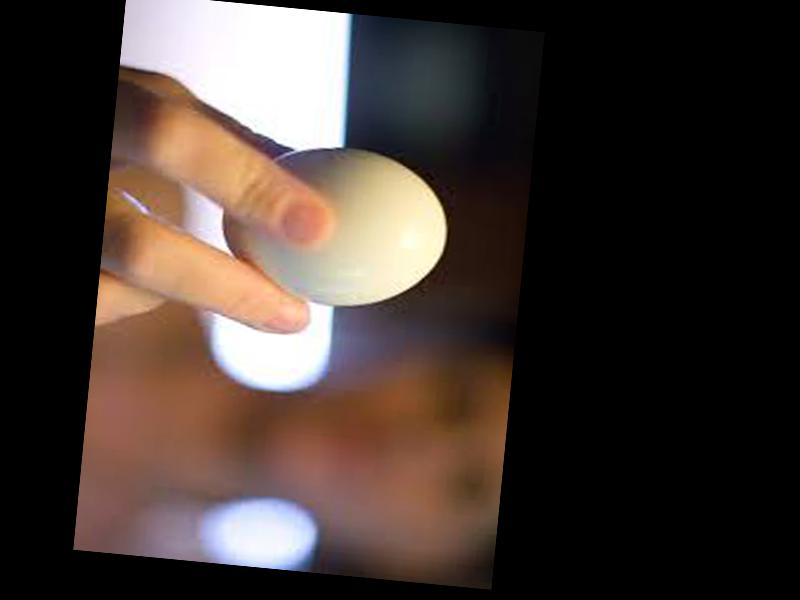Eggs: (214, 139, 453, 319)
